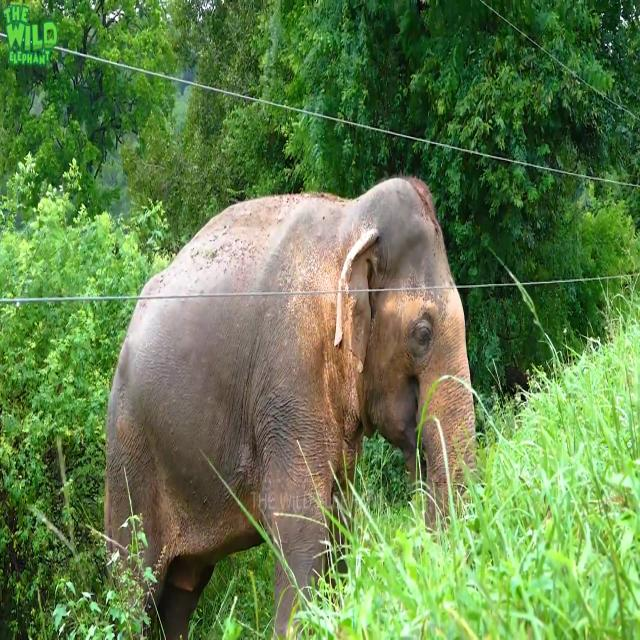Elephant: (103, 173, 478, 639)
